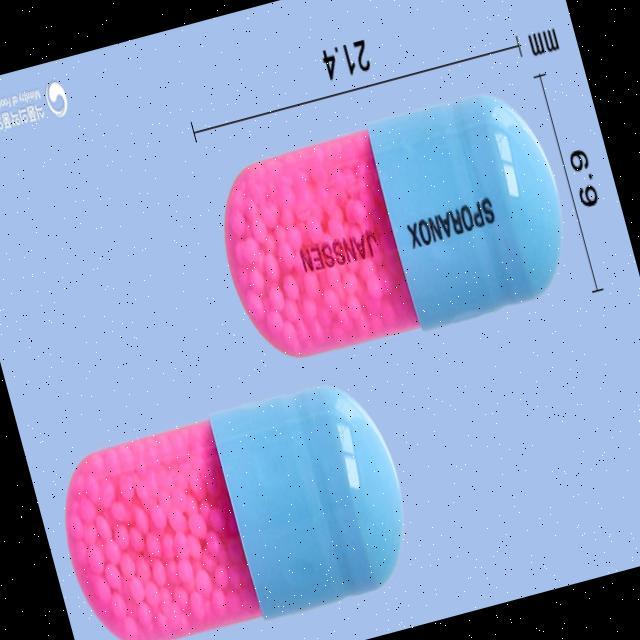Sporanox Cap: (202, 88, 584, 375), (46, 373, 426, 640)
